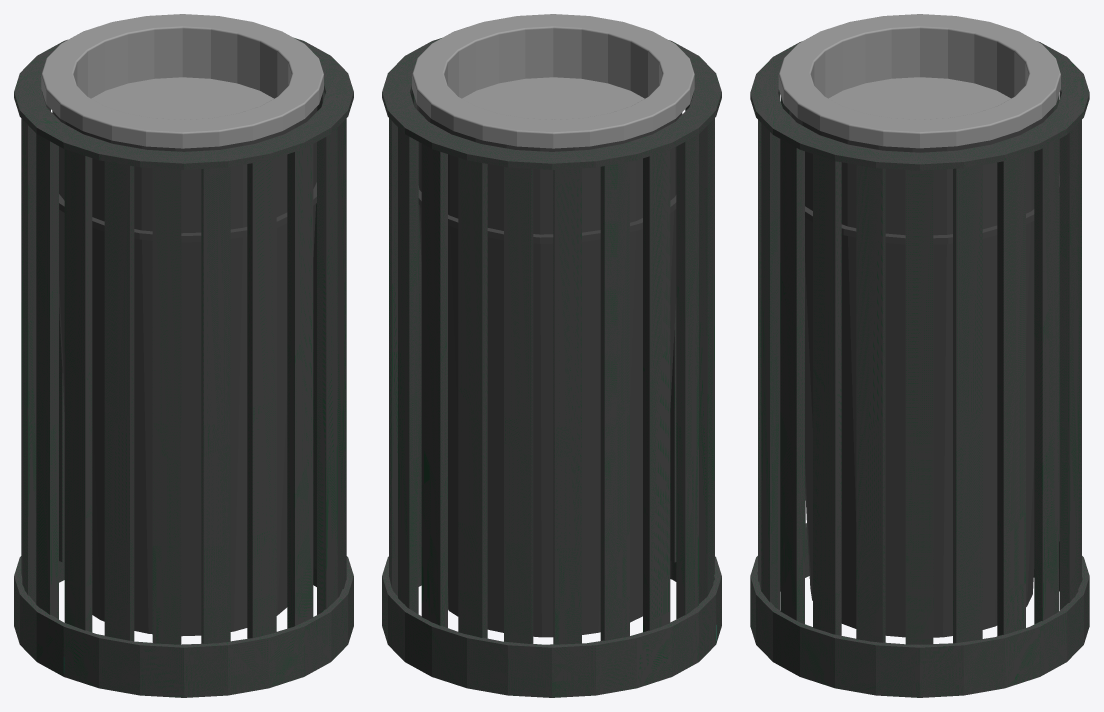
3 views of the same model, side by side, from view 1: azimuth 30°, elevation 25°; view 2: azimuth 150°, elevation 25°; view 3: azimuth 270°, elevation 25° (orthographic).
Visible parts, largest first — view 1: mesh28.001_mesh28-geometry, mesh13.001_mesh13-geometry, mesh1.001_mesh1-geometry, mesh27.001_mesh27-geometry; view 2: mesh28.001_mesh28-geometry, mesh13.001_mesh13-geometry, mesh1.001_mesh1-geometry, mesh27.001_mesh27-geometry; view 3: mesh28.001_mesh28-geometry, mesh13.001_mesh13-geometry, mesh1.001_mesh1-geometry, mesh27.001_mesh27-geometry.
Part boxes in pixels (x1=…): mesh28.001_mesh28-geometry: x1=14, y1=37, x2=353, y2=644; mesh13.001_mesh13-geometry: x1=52, y1=106, x2=317, y2=636; mesh1.001_mesh1-geometry: x1=41, y1=14, x2=323, y2=148; mesh27.001_mesh27-geometry: x1=14, y1=556, x2=353, y2=697; mesh28.001_mesh28-geometry: x1=382, y1=38, x2=721, y2=644; mesh13.001_mesh13-geometry: x1=417, y1=105, x2=681, y2=637; mesh1.001_mesh1-geometry: x1=412, y1=14, x2=694, y2=148; mesh27.001_mesh27-geometry: x1=382, y1=556, x2=721, y2=697; mesh28.001_mesh28-geometry: x1=750, y1=41, x2=1089, y2=644; mesh13.001_mesh13-geometry: x1=789, y1=107, x2=1059, y2=637; mesh1.001_mesh1-geometry: x1=778, y1=14, x2=1060, y2=148; mesh27.001_mesh27-geometry: x1=750, y1=523, x2=1089, y2=697.
Bounding box in the file's own units: 0.4374 × 0.7857 × 0.4374.
